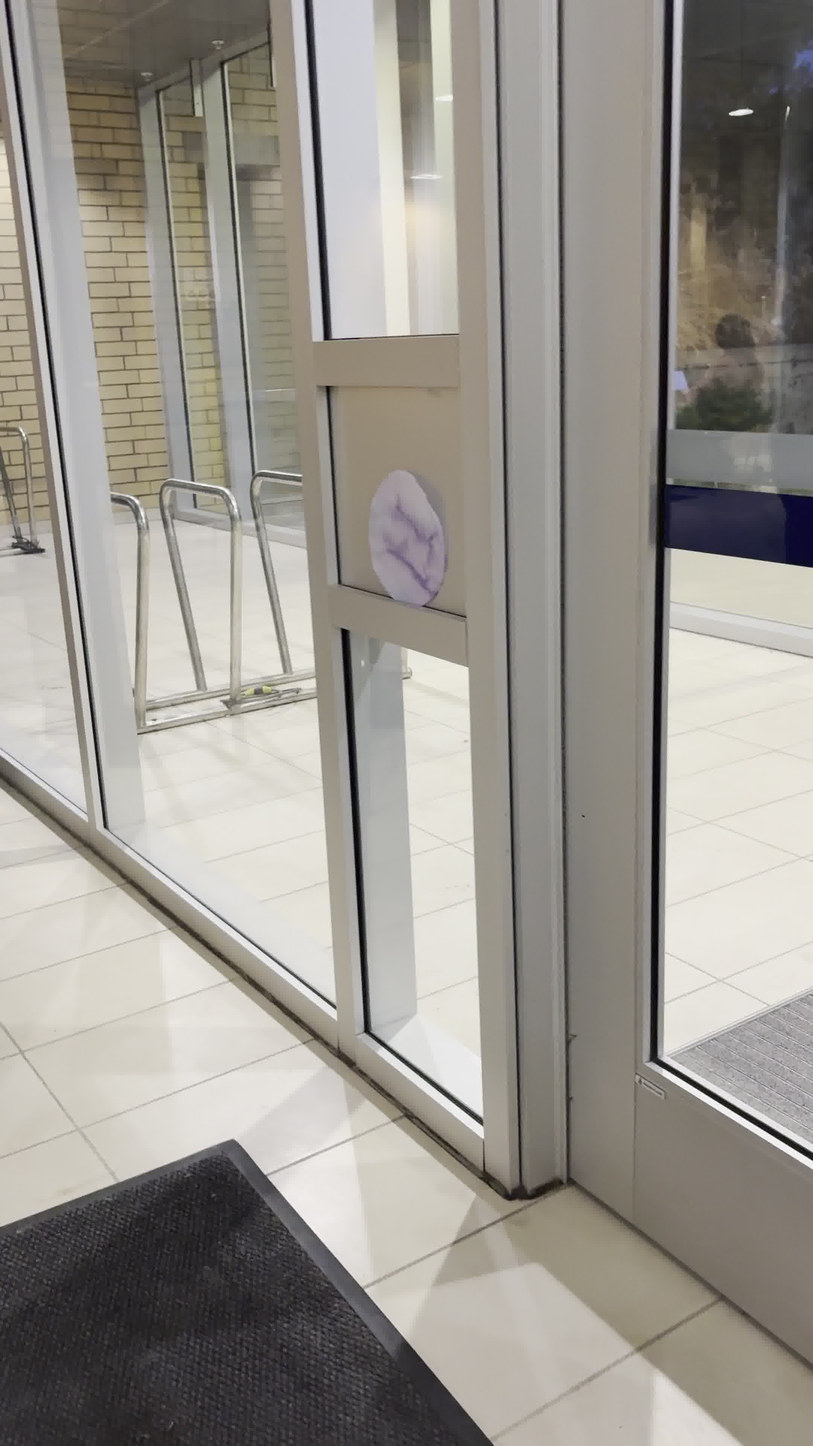Target: (362, 470, 453, 604)
